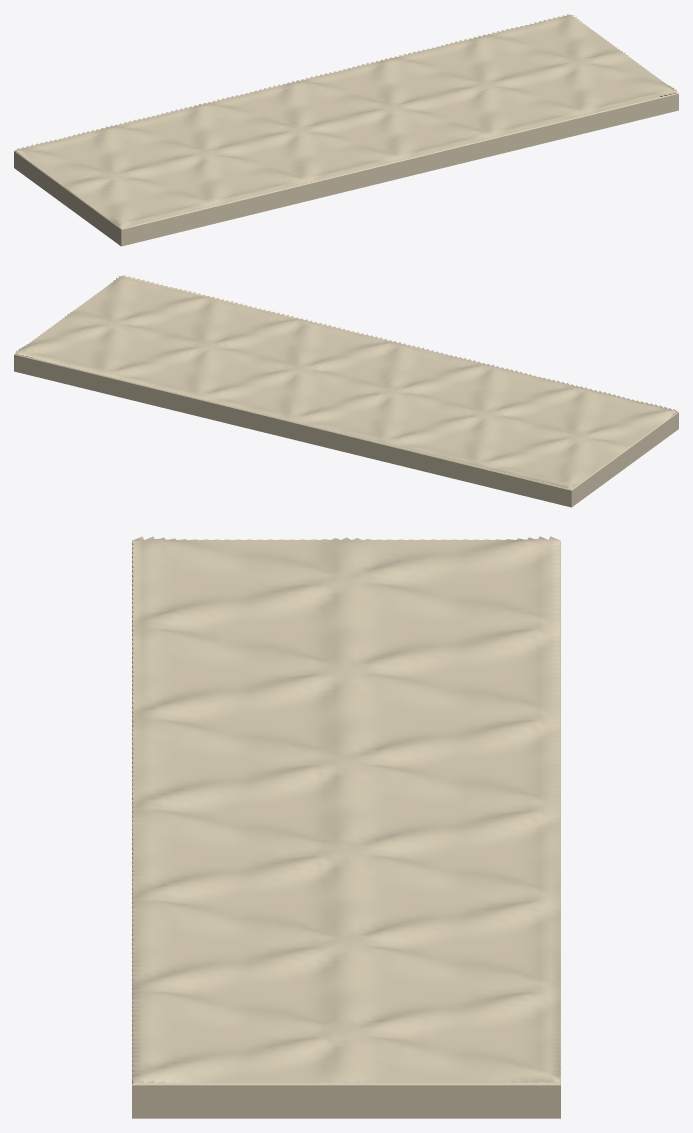
Rendered from mahsulot.glb.
3 views of the same model, one above another, from view 1: azimuth 30°, elevation 25°; view 2: azimuth 150°, elevation 25°; view 3: azimuth 270°, elevation 25° (orthographic). The views are drawn at different scales.
Visible parts, largest first — view 1: mahsulot; view 2: mahsulot; view 3: mahsulot.
Part boxes in pixels (x1,y1,x2,y2): mahsulot: (14,14,678,246); mahsulot: (14,275,678,507); mahsulot: (132,536,560,1118).
Bounding box in the file's own units: 1.2 × 0.042 × 0.4.
